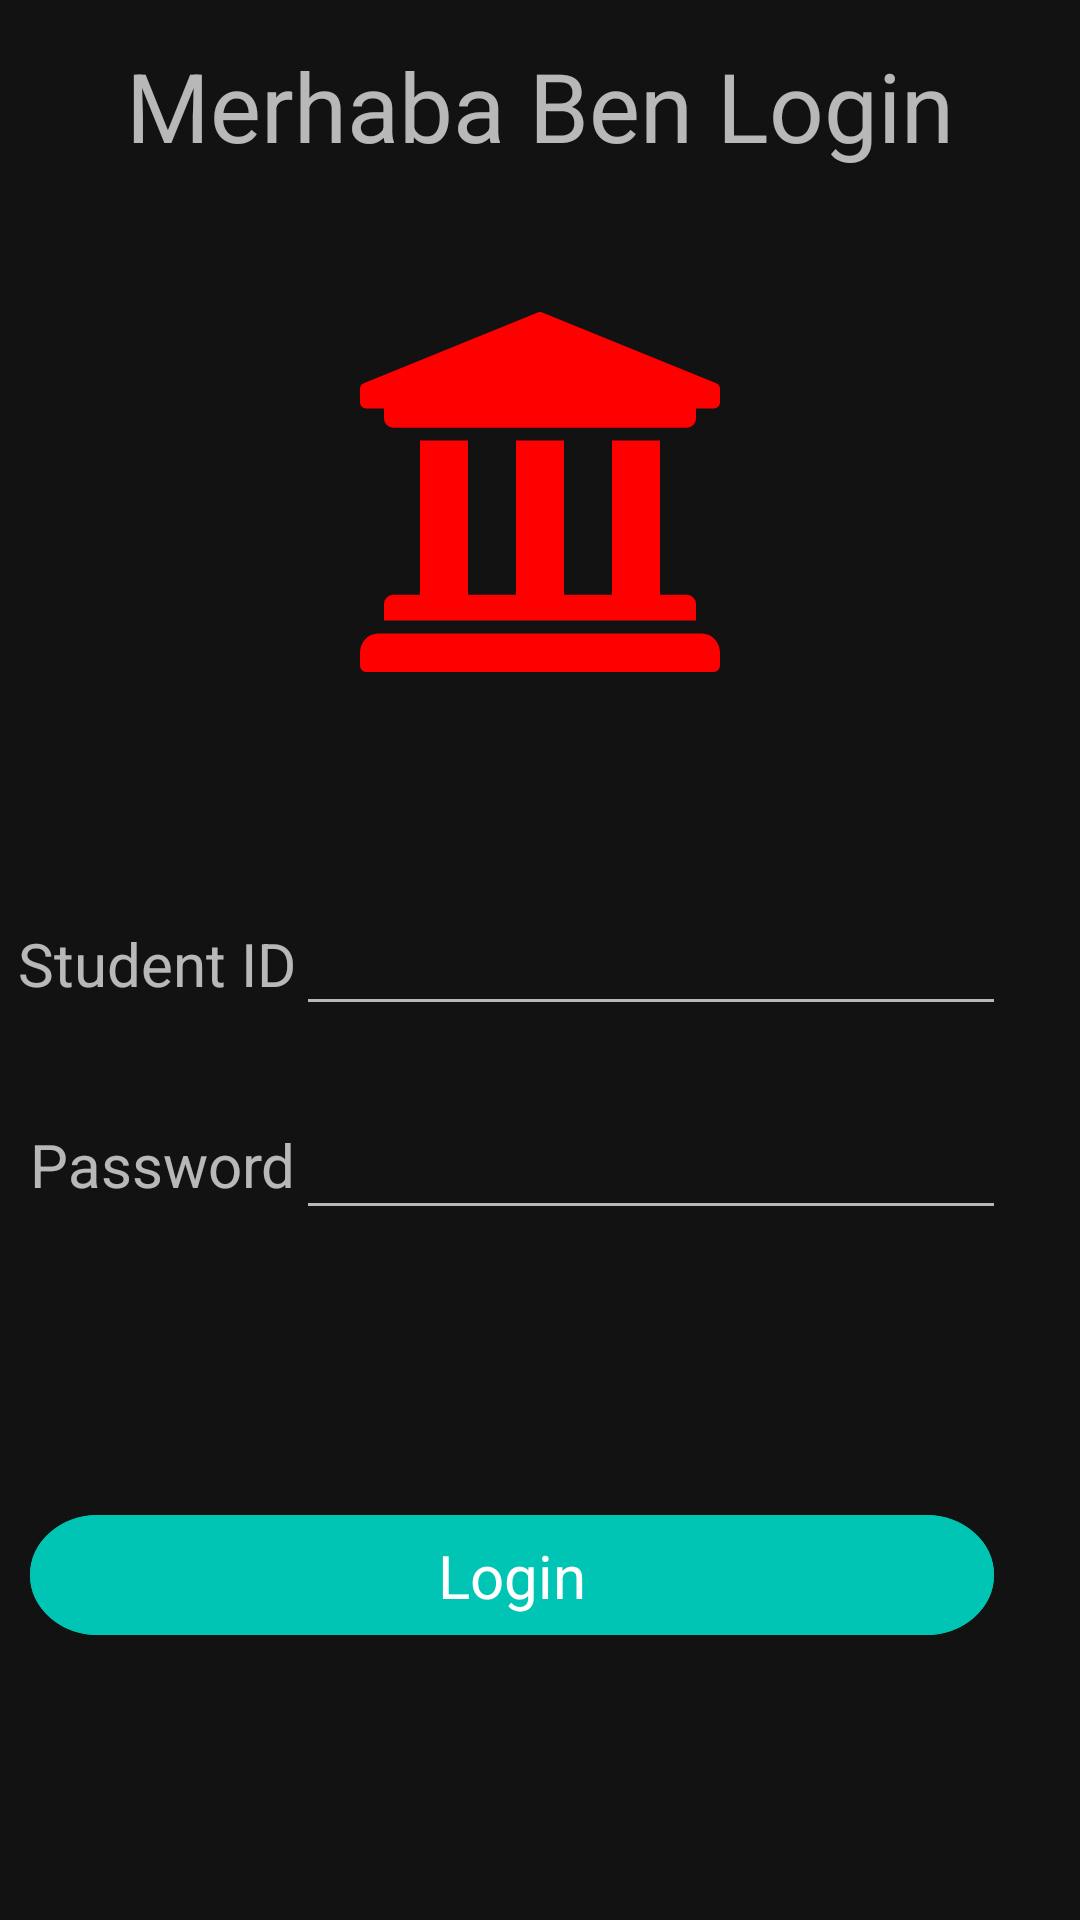

Point at icon controls on the screen. Image size 1080w x 1920h, points as point (x, y).
university: point (540, 492)
